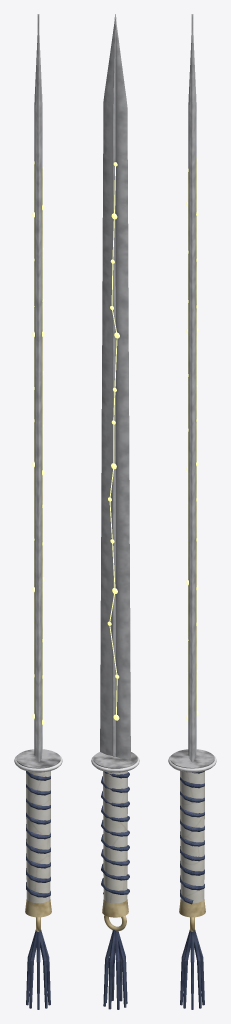
3 renders of one model, left to right at view 1: azimuth 90°, elevation 25°; view 2: azimuth 150°, elevation 25°; view 3: azimuth 270°, elevation 25°, orthographic.
Visible parts, largest first — view 1: metal_steel, skin_ray, cloth_navy, glow_edge, metal_iron, metal_brass, metal_silver; view 2: metal_steel, skin_ray, cloth_navy, glow_edge, metal_brass, metal_iron, metal_silver; view 3: metal_steel, skin_ray, cloth_navy, glow_edge, metal_iron, metal_brass, metal_silver.
Boxes of the visible parts, bbox=[...] form: metal_steel: bbox=[34, 14, 42, 762]; skin_ray: bbox=[26, 771, 50, 903]; cloth_navy: bbox=[26, 771, 50, 1009]; glow_edge: bbox=[32, 161, 44, 725]; metal_iron: bbox=[16, 749, 60, 772]; metal_brass: bbox=[25, 899, 51, 931]; metal_silver: bbox=[14, 755, 62, 771]; metal_steel: bbox=[100, 14, 130, 759]; skin_ray: bbox=[103, 771, 127, 903]; cloth_navy: bbox=[101, 771, 129, 1009]; glow_edge: bbox=[107, 162, 119, 720]; metal_brass: bbox=[102, 899, 128, 931]; metal_iron: bbox=[93, 752, 137, 772]; metal_silver: bbox=[91, 755, 139, 772]; metal_steel: bbox=[188, 14, 196, 762]; skin_ray: bbox=[180, 771, 204, 903]; cloth_navy: bbox=[180, 771, 204, 1009]; glow_edge: bbox=[186, 158, 198, 721]; metal_iron: bbox=[170, 749, 214, 772]; metal_brass: bbox=[179, 899, 205, 931]; metal_silver: bbox=[168, 755, 216, 771].
Size of the model in its own units: 0.065 by 1.47 by 0.065.
Materials: 7 (6 with a texture image).
